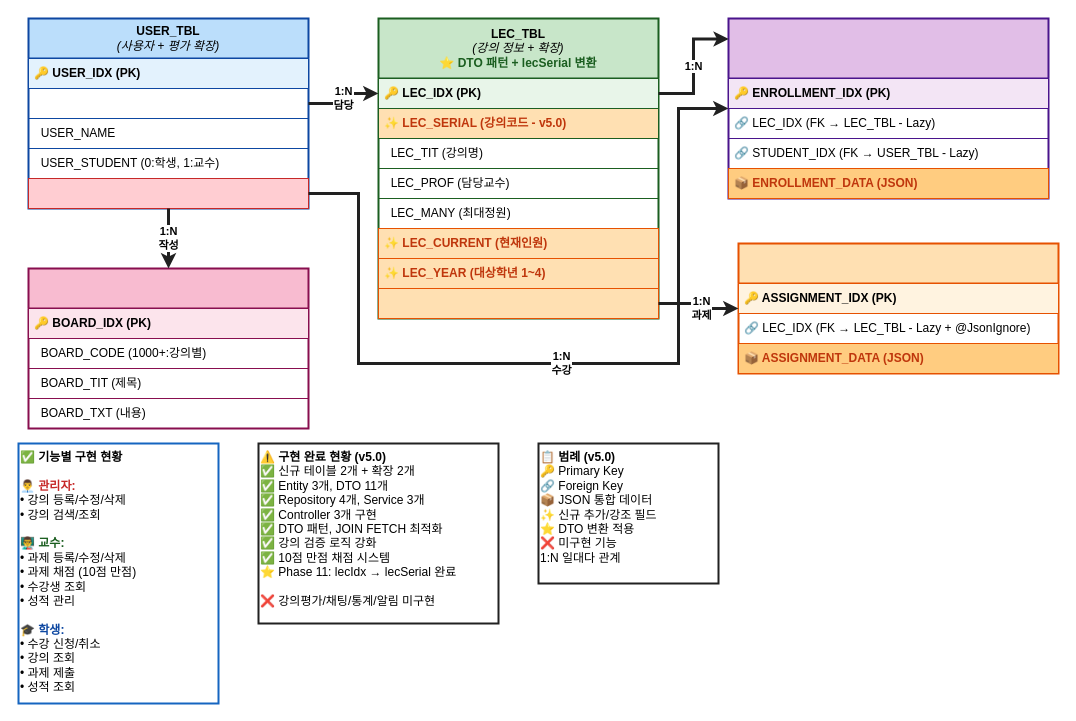
Some shapes in this 1076 by 721 pixel diagram are drawn without their labels. Here are the shapes that lost their labels. From the top down, the box of each, then its label:
(28, 88, 308, 118): USER_EMAIL
(727, 17, 1049, 199): ENROLLMENT_EXTENDED_TBL (수강/출결/성적 통합 신규) ⭐ DTO 패턴 적용
(28, 178, 308, 208): ❌ LECTURE_EVALUATIONS (미구현)
(378, 288, 658, 318): ✨ LEC_SEMESTER (학기 1/2)
(737, 242, 1059, 374): ASSIGNMENT_EXTENDED_TBL (과제/제출 통합 신규)
(27, 267, 309, 429): BOARD_TBL (게시판 - 기존)
